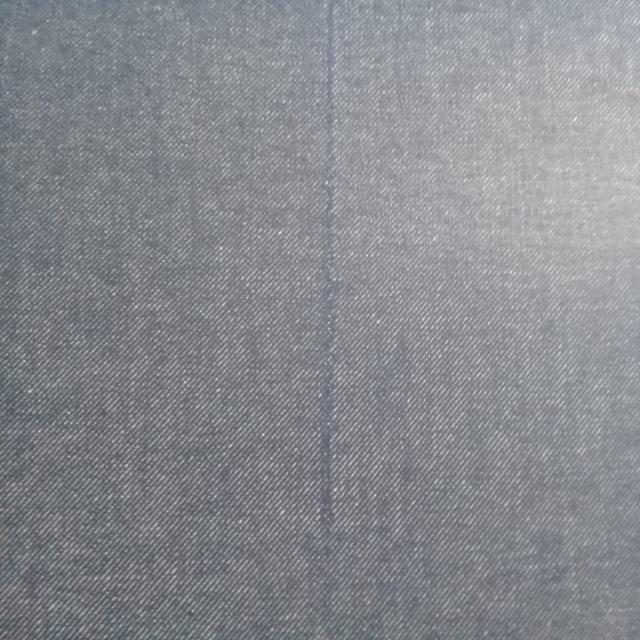Line: (317, 0, 335, 537)
